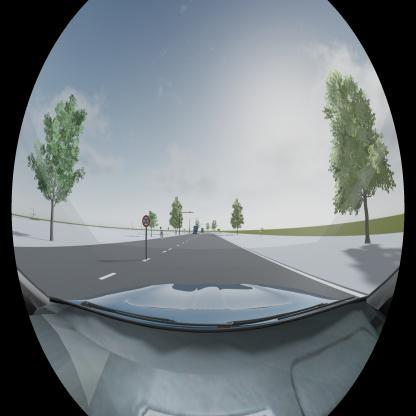Green Light: (188, 212, 192, 214)
